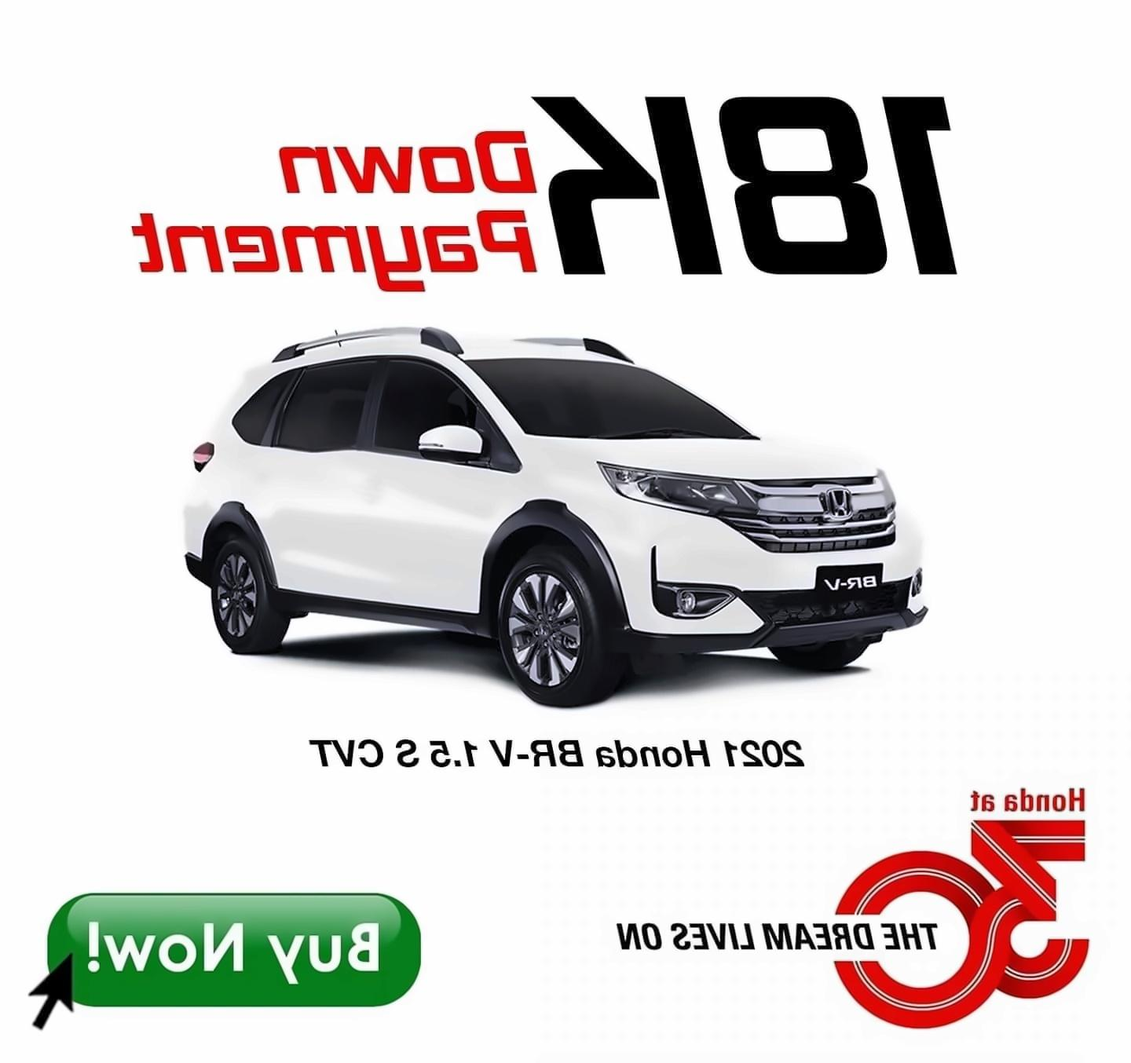Car hood: (549, 434, 884, 482)
Driver-s door - -F-R-: (366, 341, 475, 621)
Fender - -F-R-: (475, 434, 613, 624)
Fender - -R-R-: (201, 445, 259, 524)
Front bumper: (590, 516, 941, 658)
Headlight - -R-: (596, 458, 753, 521)
Passenger-s door - -R-R-: (260, 339, 364, 603)
Rear bumper: (175, 492, 218, 585)
Rear light - -R-: (183, 435, 222, 478)
Side bumper - -R-: (255, 582, 495, 648)
Side mirror - -R-: (412, 415, 488, 472)
